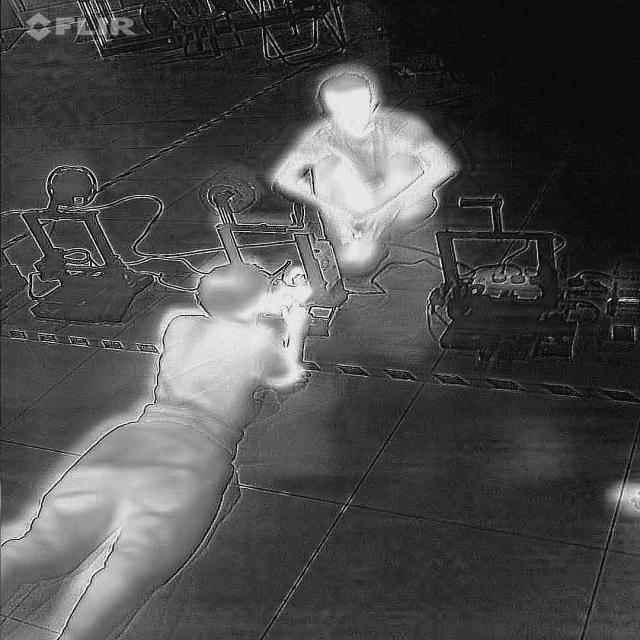Victim: (2, 248, 320, 640), (267, 59, 467, 283)
